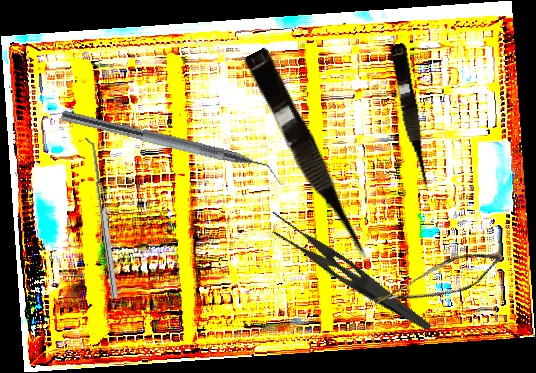Chopper: (55, 109, 290, 188)
Dressing Forceps: (259, 208, 443, 333)
Micro Scissor: (237, 46, 376, 268), (367, 229, 508, 337), (385, 42, 435, 194)
Spatula Surgical: (82, 136, 119, 300)
